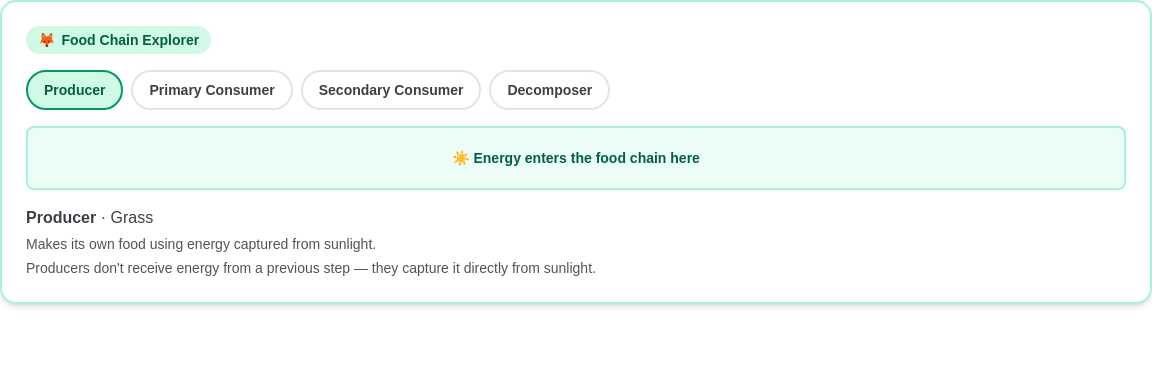
FoodChainExplorer › clicking Primary Consumer shows its role, example, and the ~10% energy note
This screenshot has width=1152, height=385.
Click the button "Primary Consumer" at (212, 90), box [132,70,293,110]
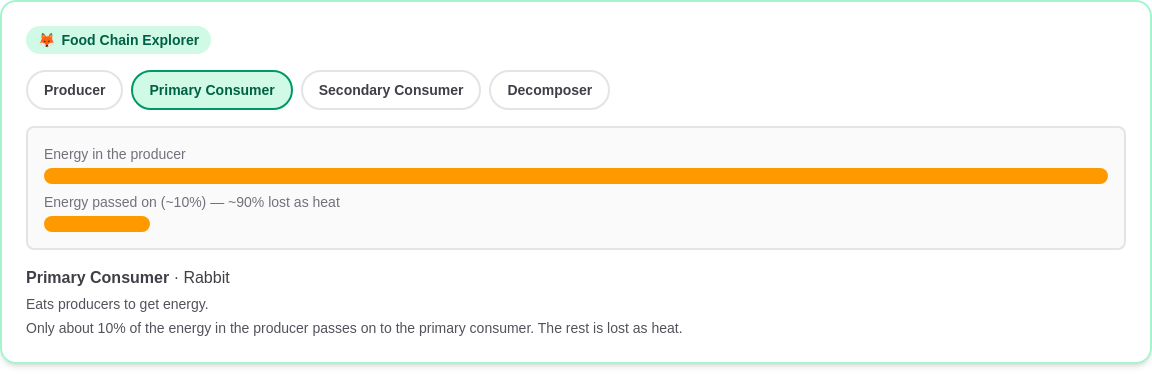
Expected: the text with test id "level-name" reads "Primary Consumer", [26,269,169,286]
Expected: the text with test id "level-example" reads "Rabbit", [183,269,230,286]
Expected: the text with test id "energy-note" shows "Only about 10% of the energy in the producer passes on to the primary consumer", [26,320,682,336]
